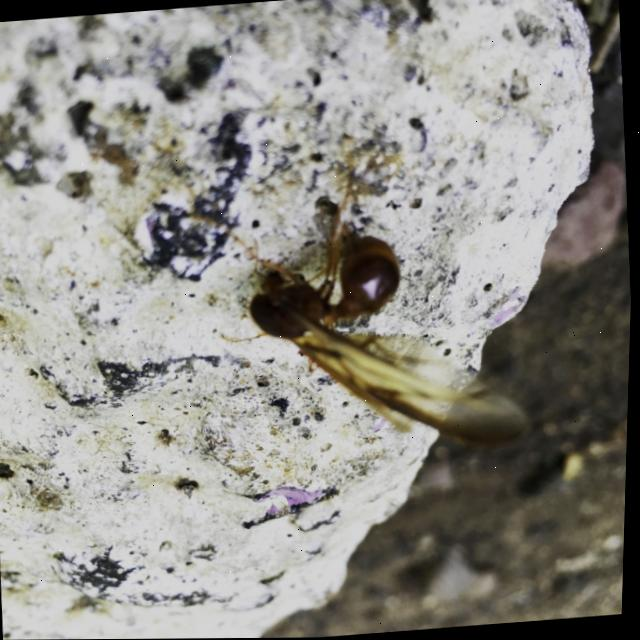Dead-Male-Alate: (181, 121, 543, 471)
